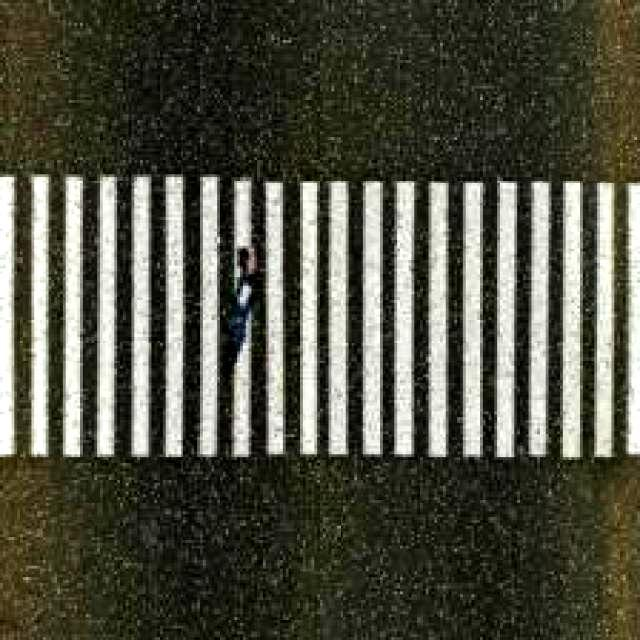crosswalk: (0, 155, 640, 462)
